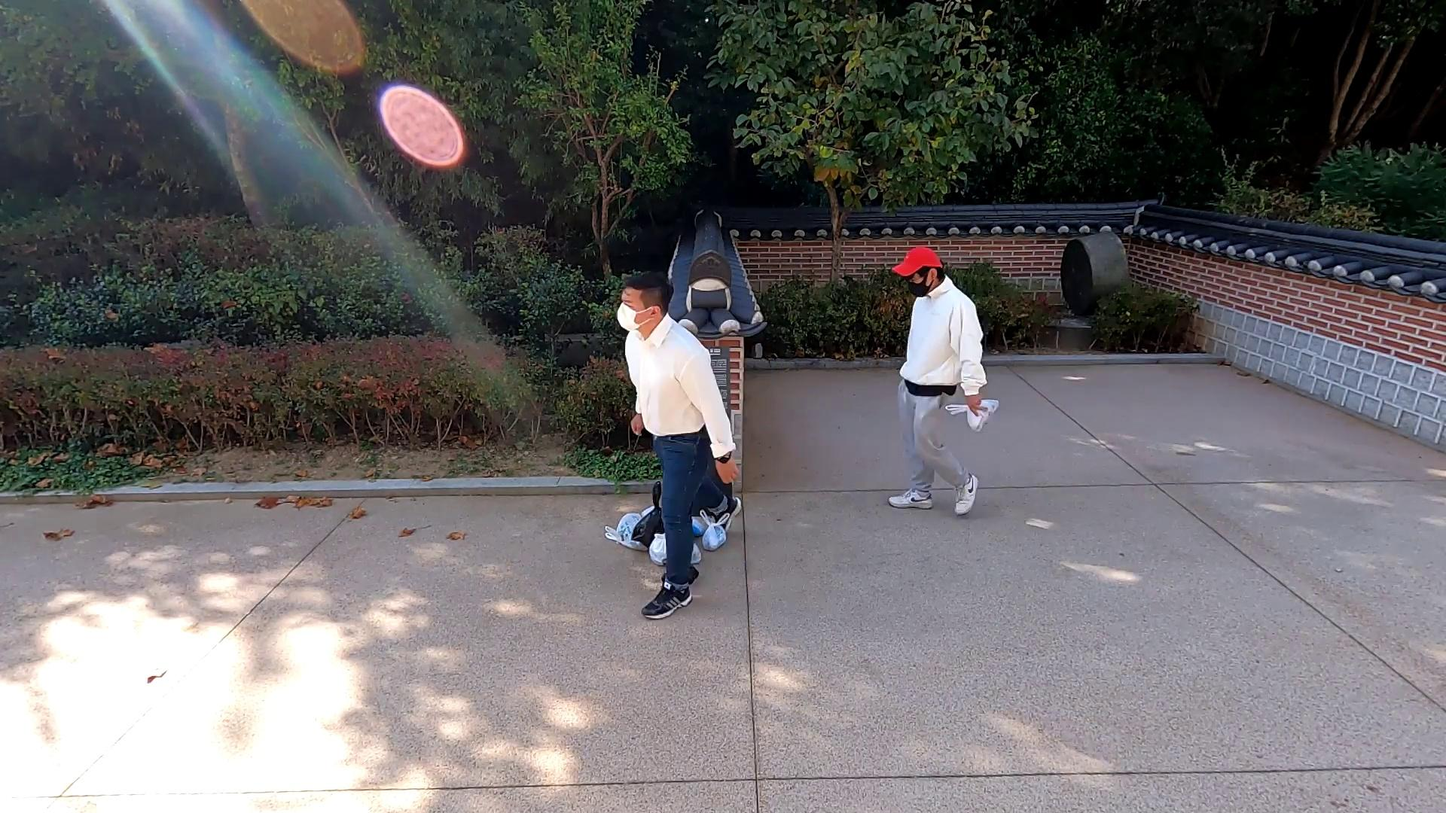person: (612, 266, 748, 622), (886, 240, 1001, 522)
trash: (632, 478, 670, 545), (943, 393, 1001, 434), (646, 528, 702, 568), (601, 510, 645, 550), (696, 507, 732, 554)
